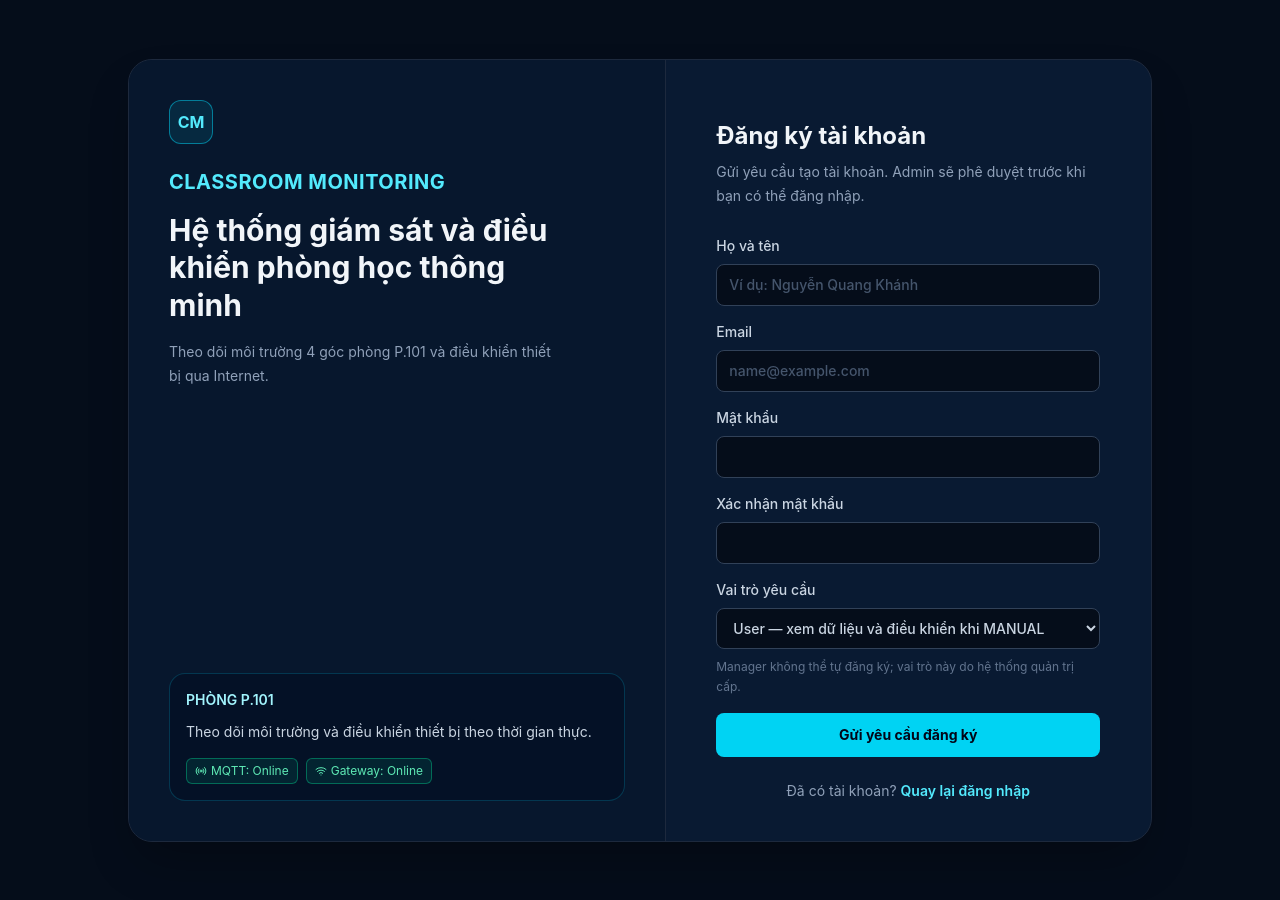
Test: RegistrationPage › shows an approval-pending message after a valid registration request
In the field labelled "Họ và tên": coordinates (908, 284) [716,264,1100,306], type "Nguyễn Quang Khánh"
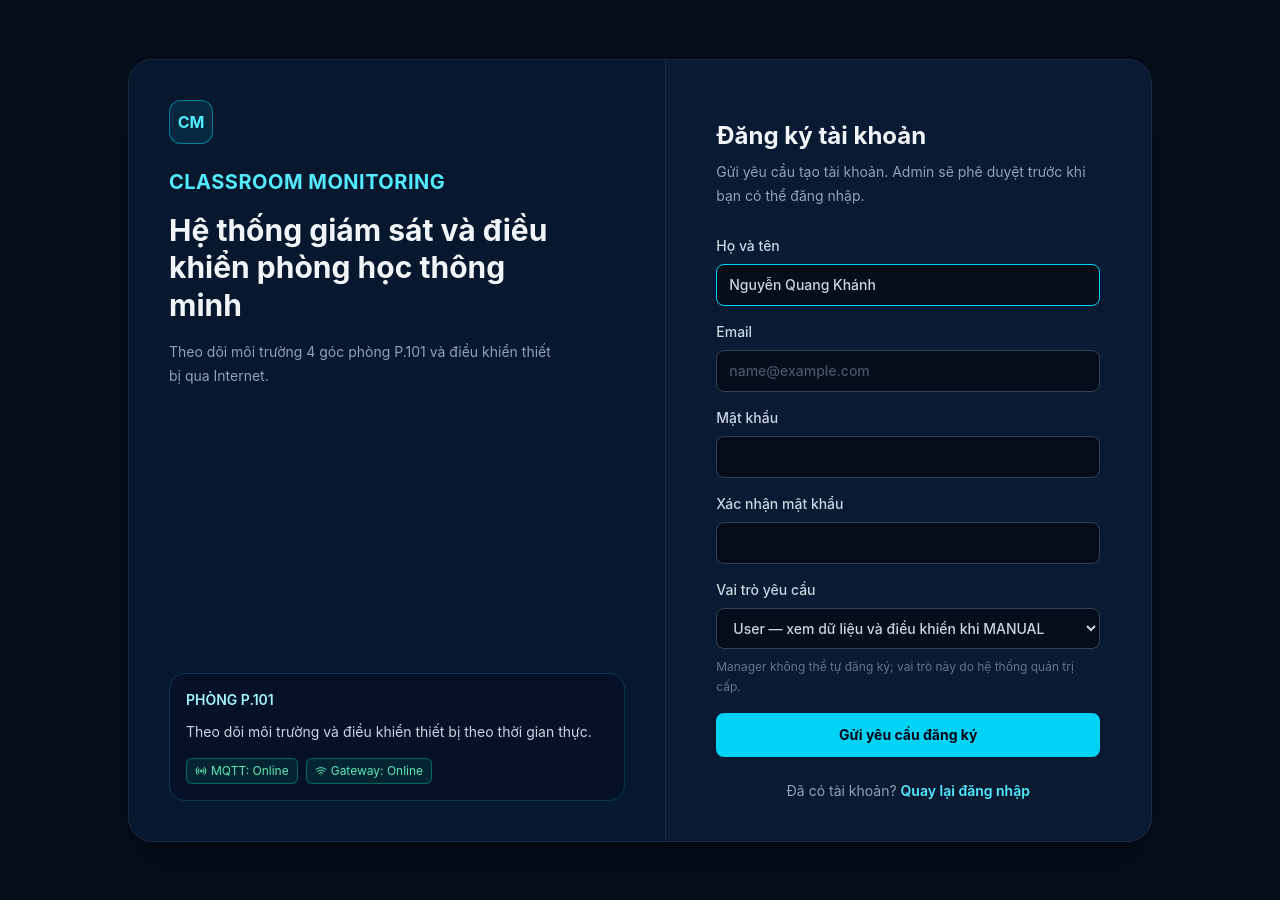
In the field labelled "Email": coordinates (908, 370) [716,350,1100,392], type "khanh@example.com"
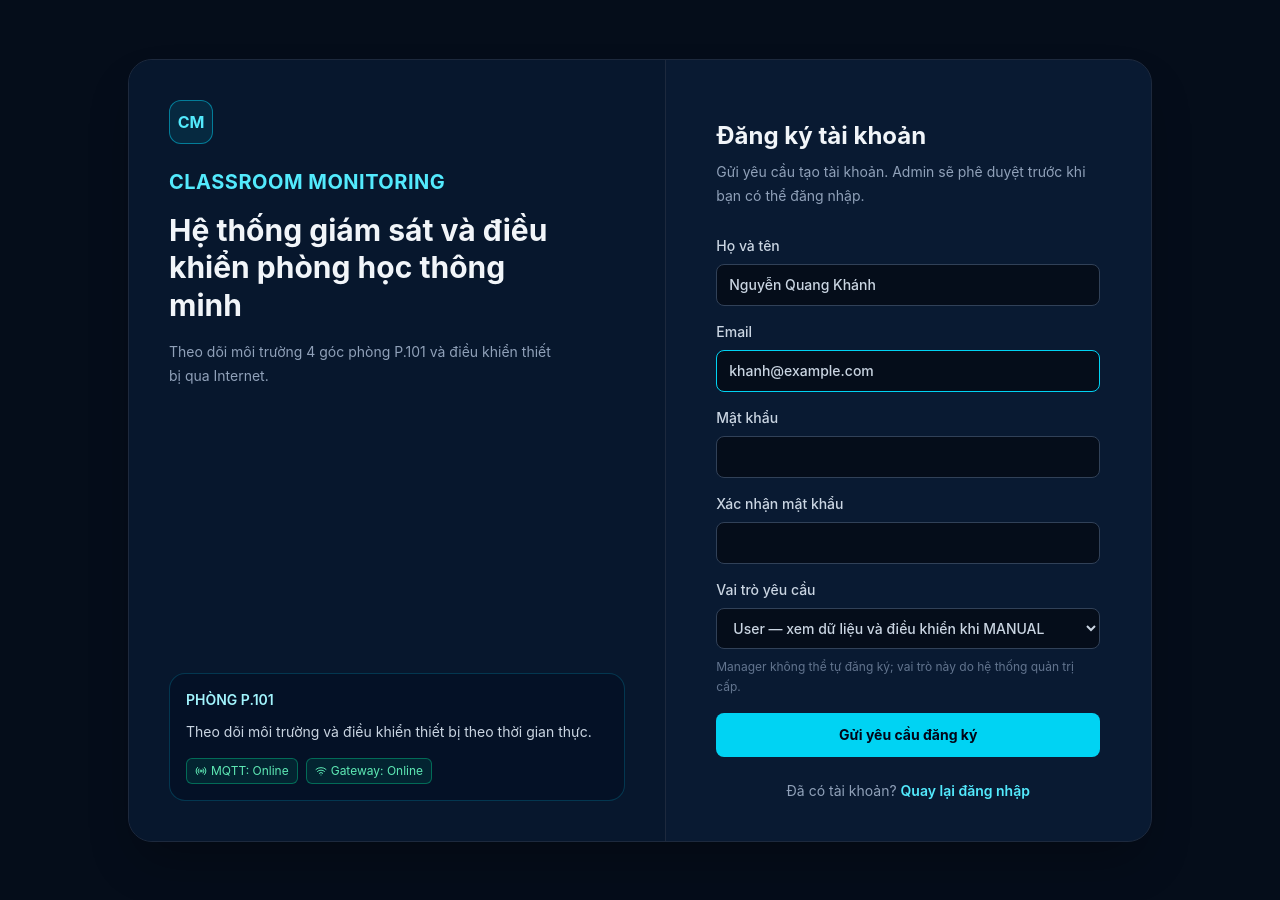
In the password field labelled "Mật khẩu": coordinates (908, 456) [716,436,1100,478], type "smartclass123"
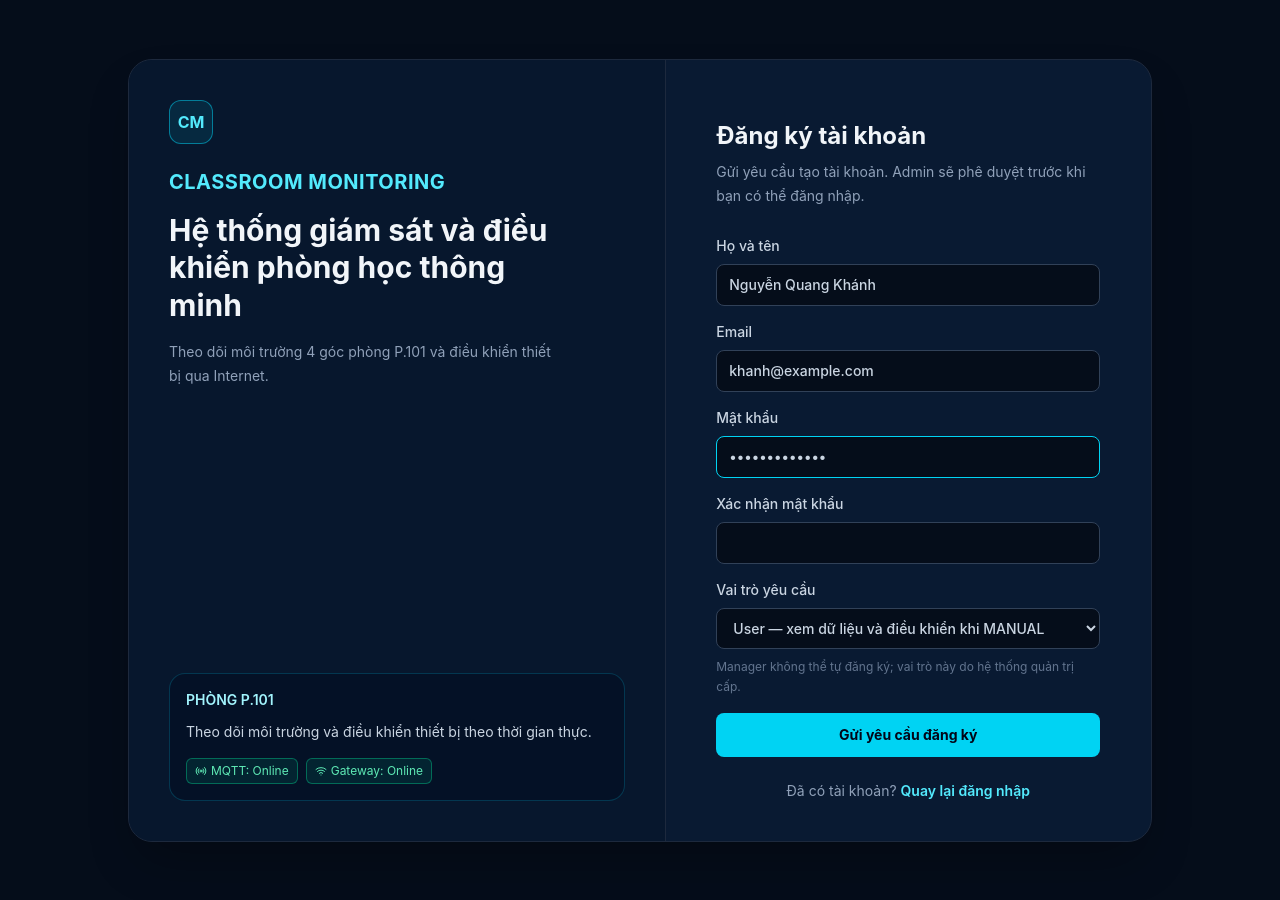
In the password field labelled "Xác nhận mật khẩu": coordinates (908, 542) [716,522,1100,564], type "smartclass123"
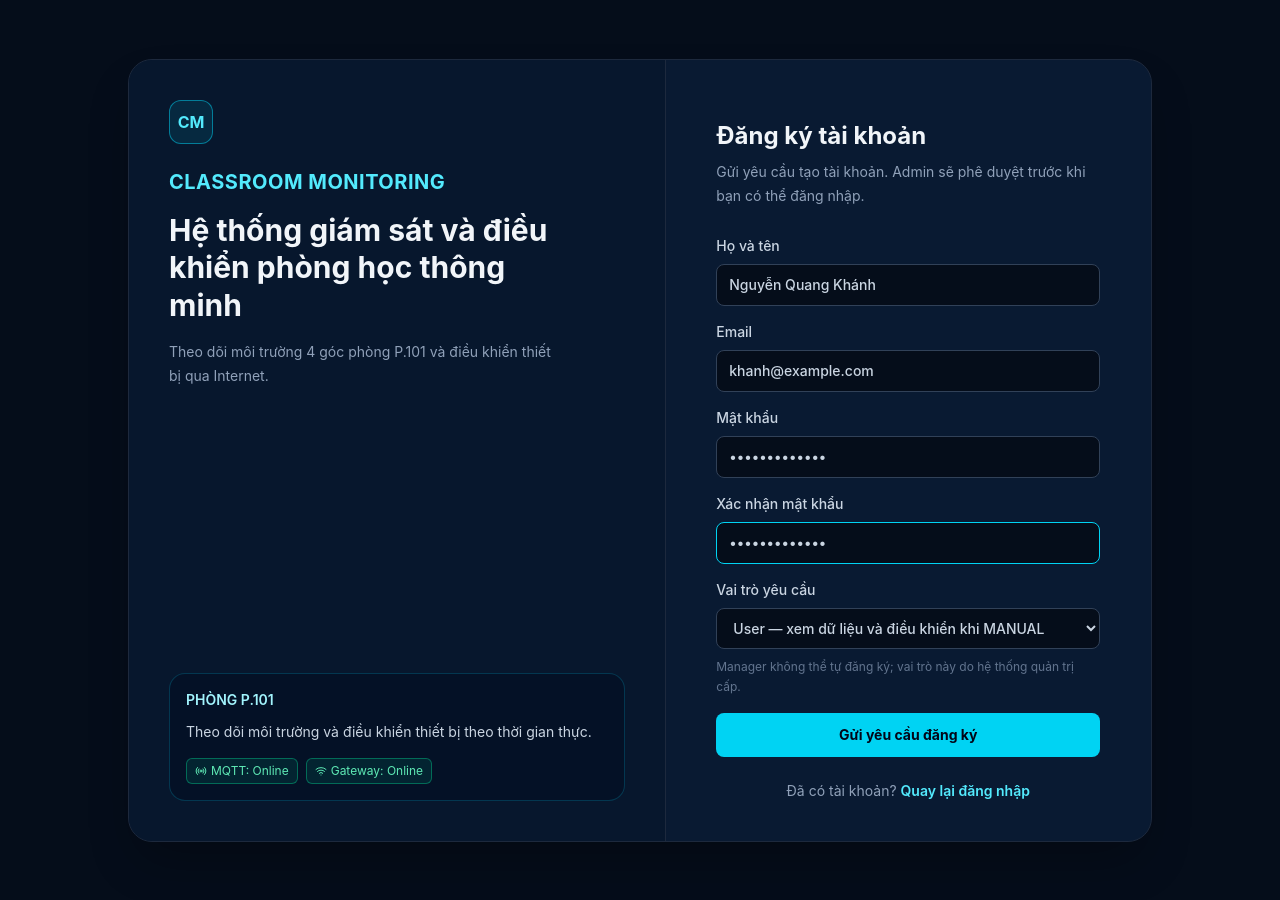
Select "Technician — xem trạng thái kỹ thuật" in the dropdown labelled "Vai trò yêu cầu": coordinates (908, 628) [716,608,1100,648]
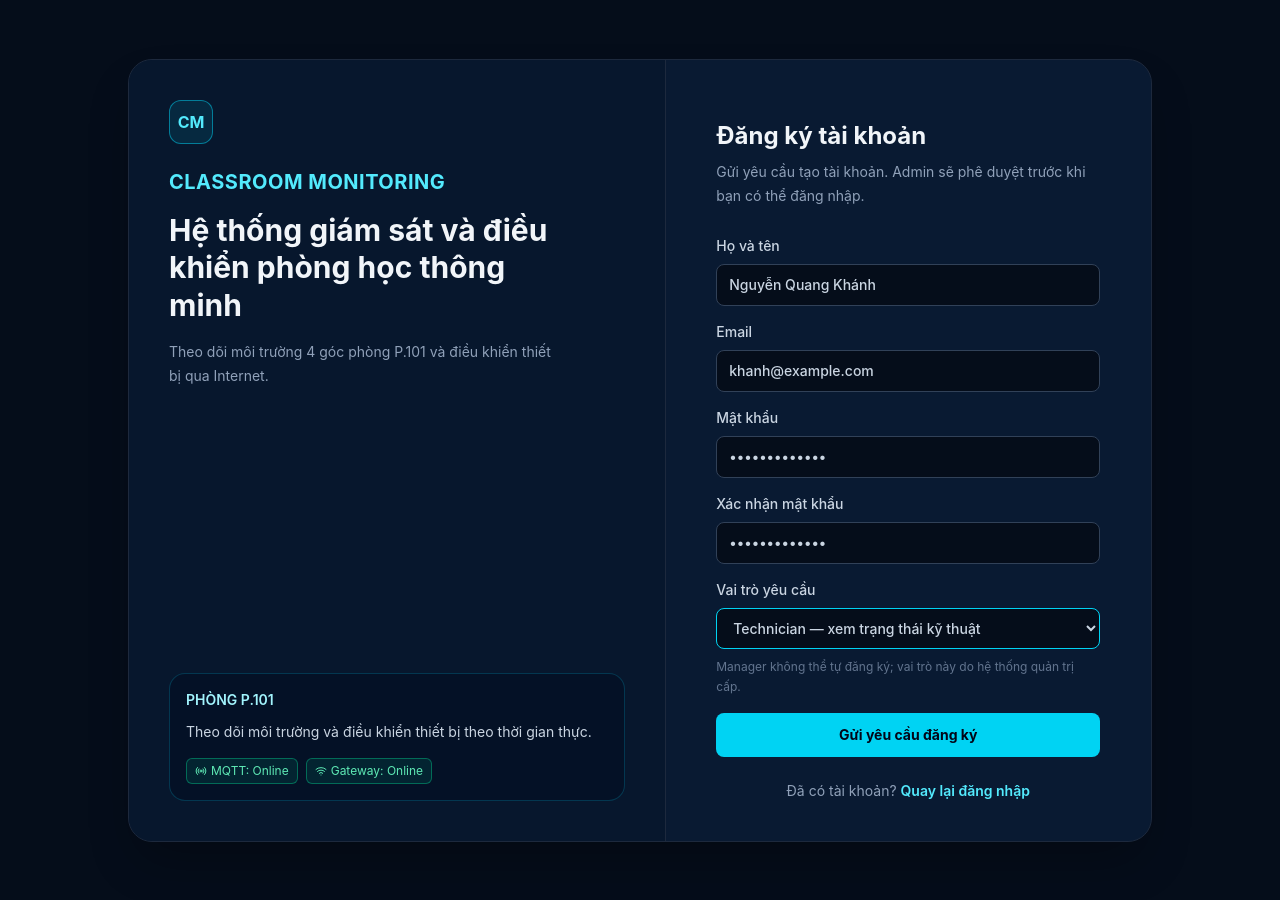
Click the button "Gửi yêu cầu đăng ký": coordinates (908, 734) [716,712,1100,756]
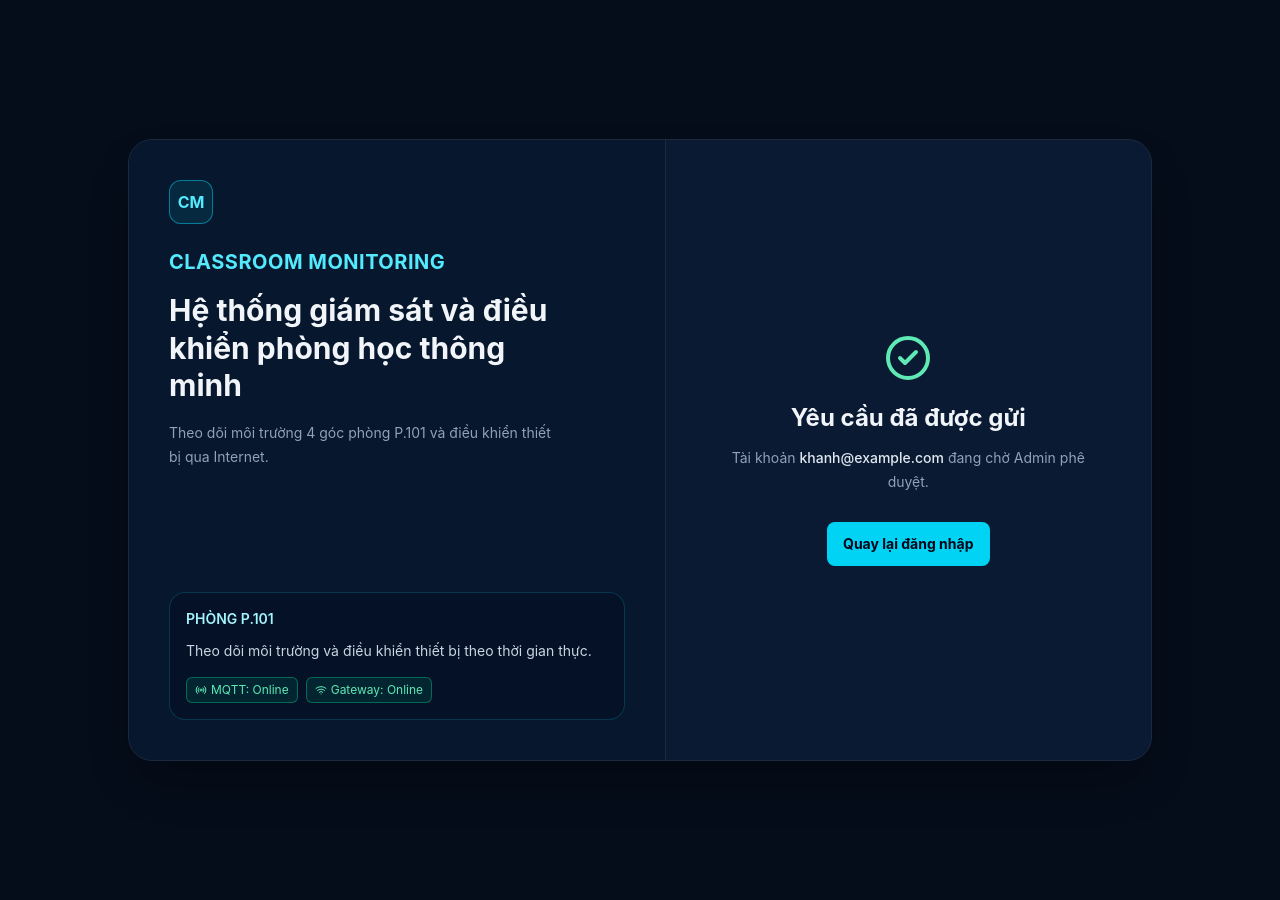
Expected: the heading "Yêu cầu đã được gửi" is shown, [791,403,1026,432]
Expected: the text "Tài khoản khanh@example.com đang chờ Admin phê duyệt." is shown, [716,446,1100,494]
